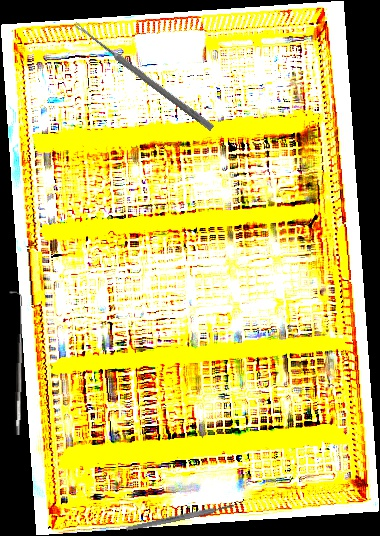Hook Surgical: (4, 291, 27, 435)
Scalpel Handle: (125, 503, 235, 532)
Surgical Spoon: (72, 20, 215, 132)
